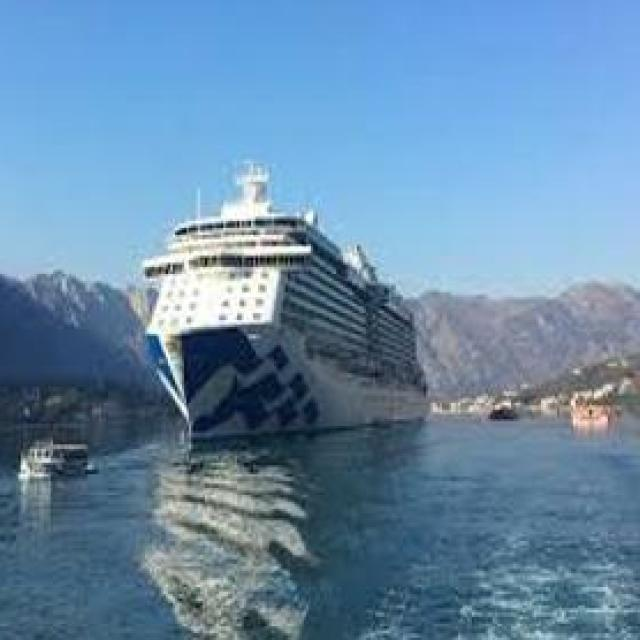passenger ship: (139, 165, 433, 446)
